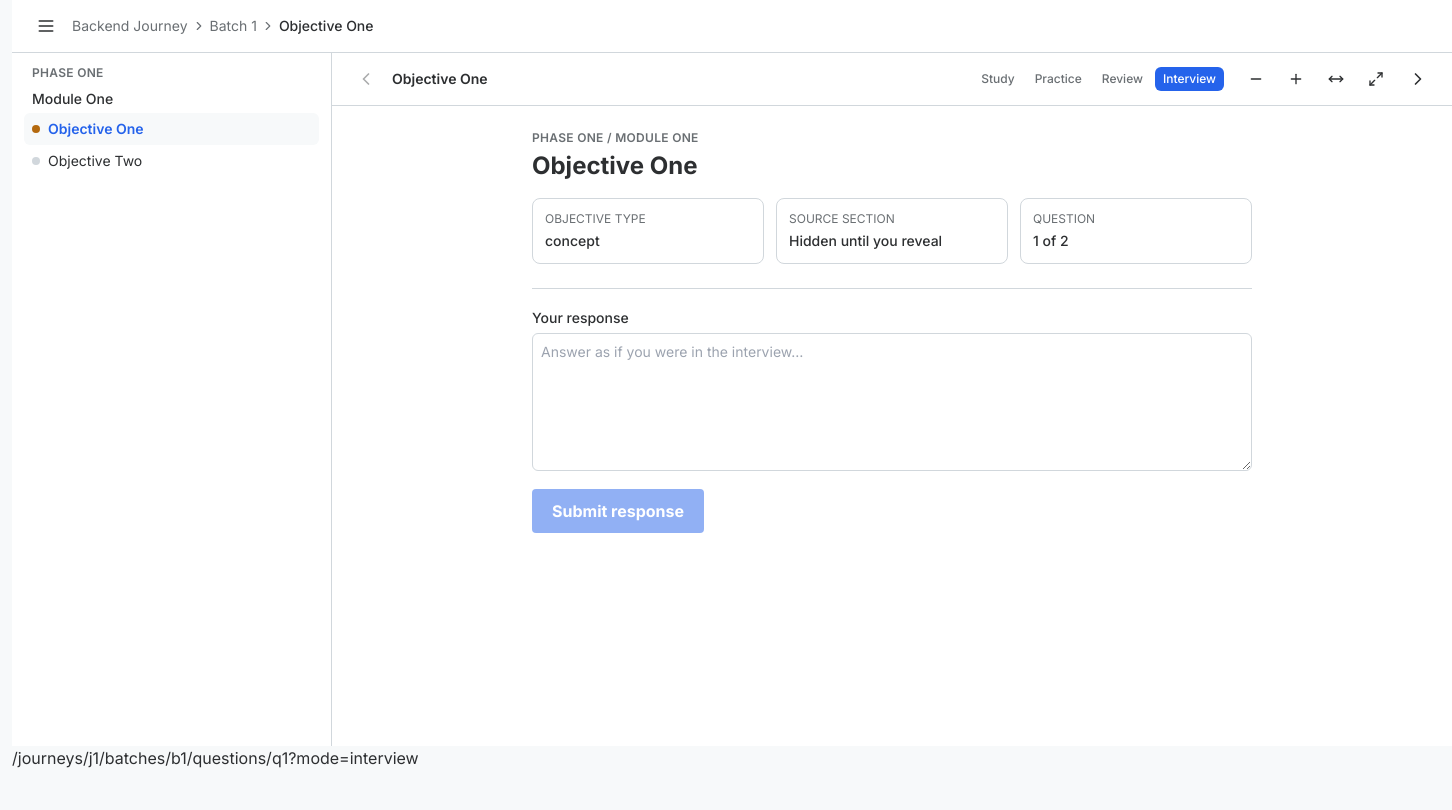
StudyReaderPage › interview mode requires a submitted response before reveal
Expected: the 2nd heading "Objective One" is shown, [532, 151, 698, 180]
Expected: the button "Reveal answer" is not shown
Step 1. Type "My interview answer" into the text box labelled "Your response" → [892, 402], box [532, 333, 1252, 471]
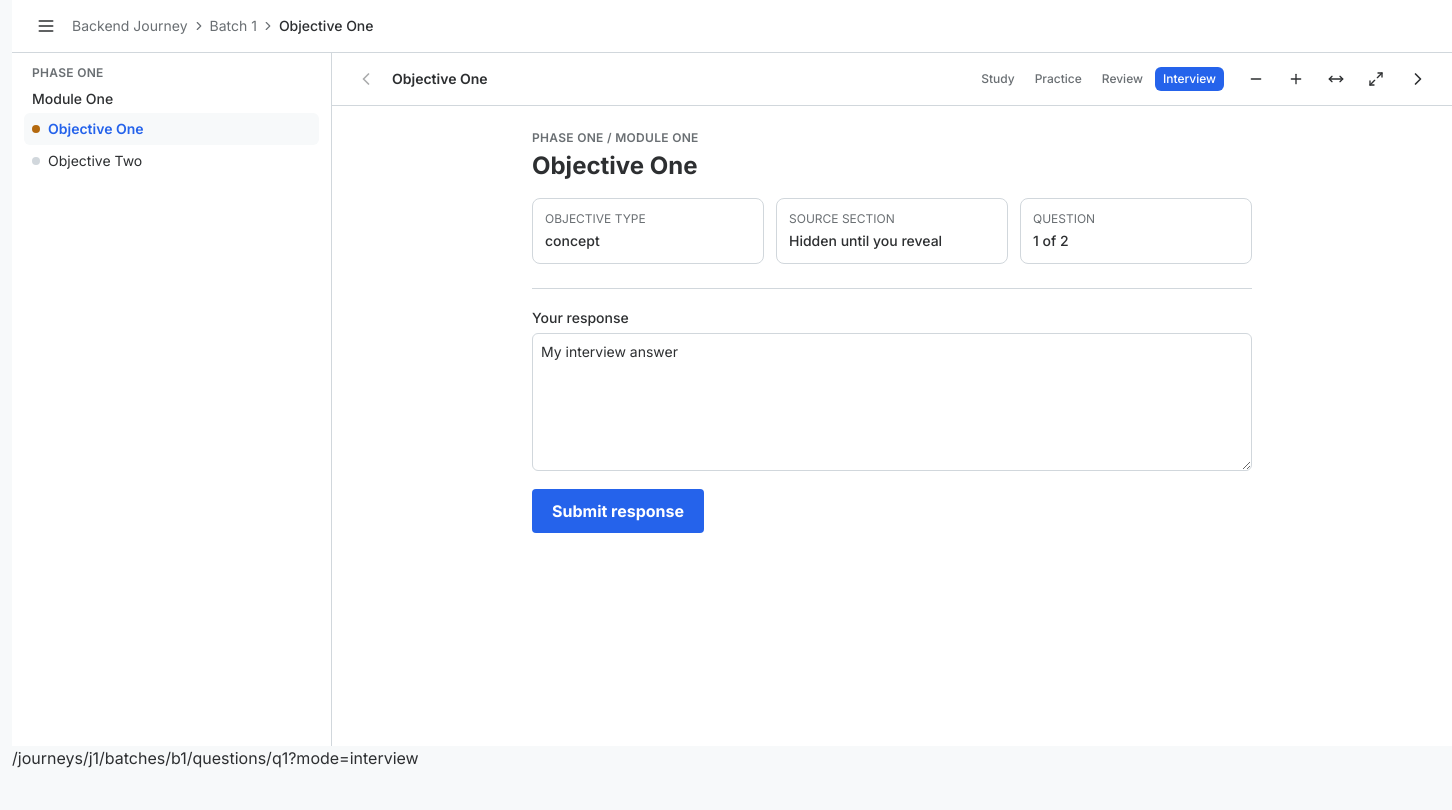
Step 2. Click the button "Submit response" → [618, 511], box [532, 489, 704, 533]
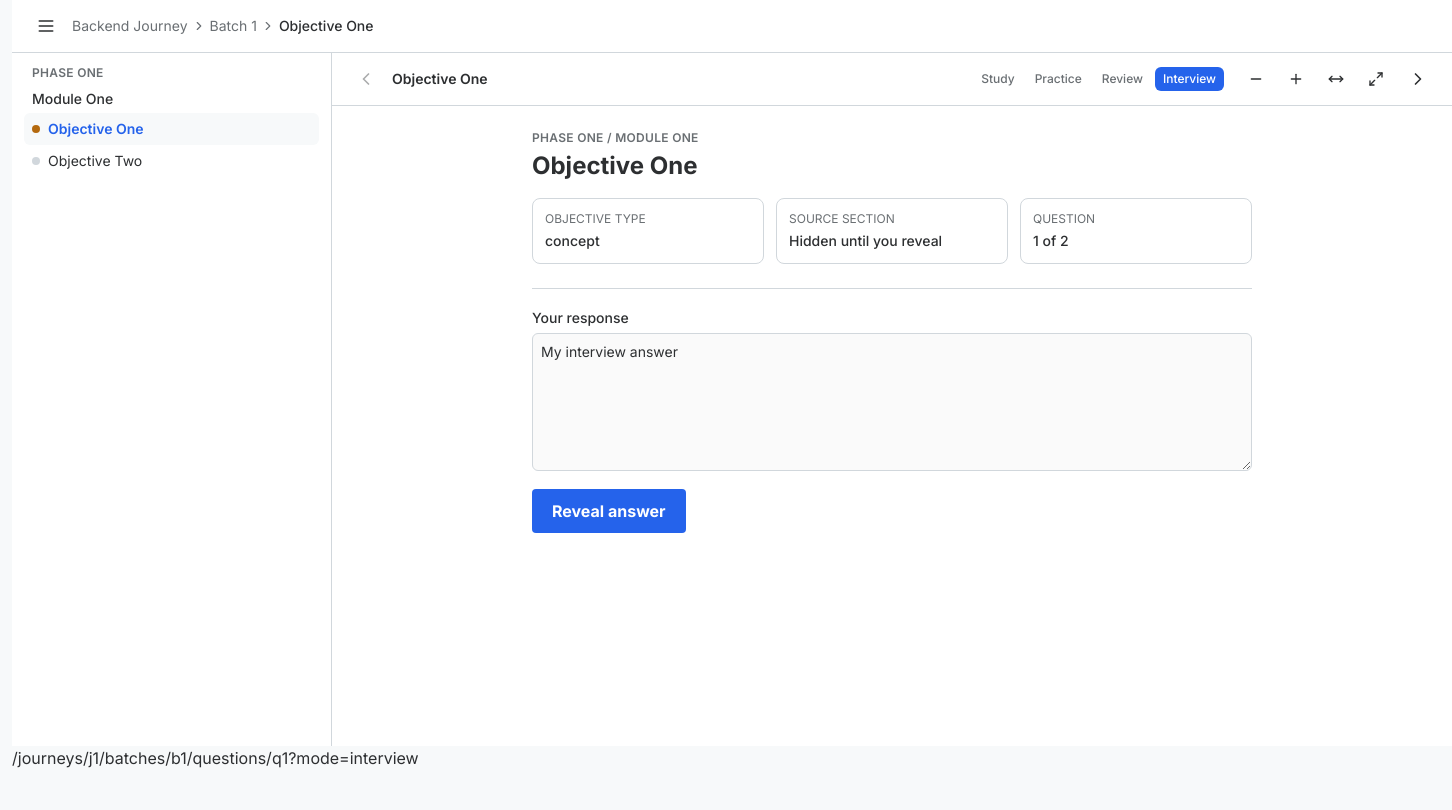
Step 3. Click the button "Reveal answer" → [609, 511], box [532, 489, 686, 533]
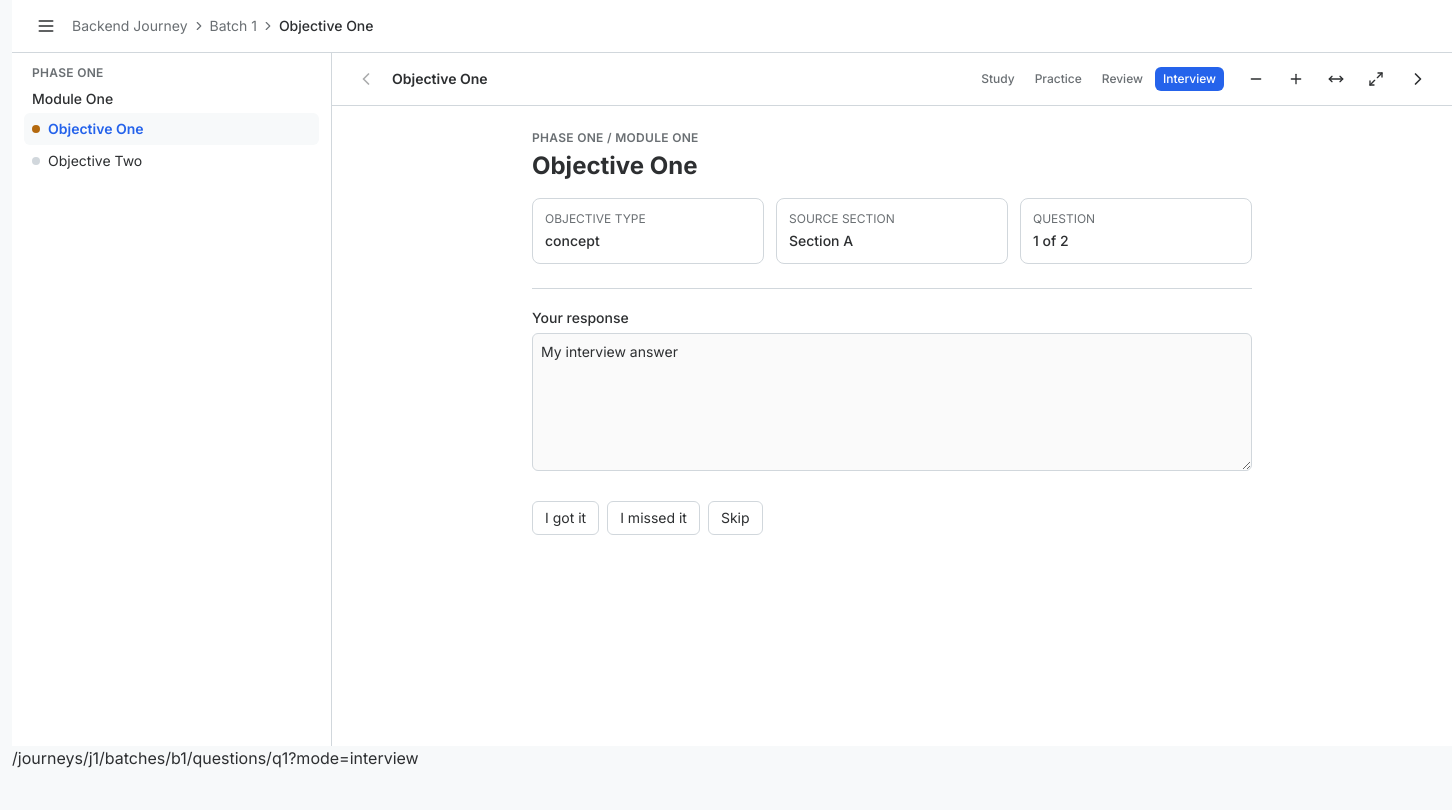
Expected: the text "Section A" is shown, [789, 232, 853, 249]
